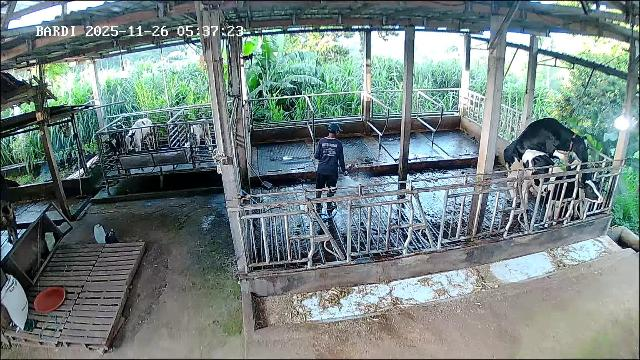mounting: (504, 118, 588, 200)
